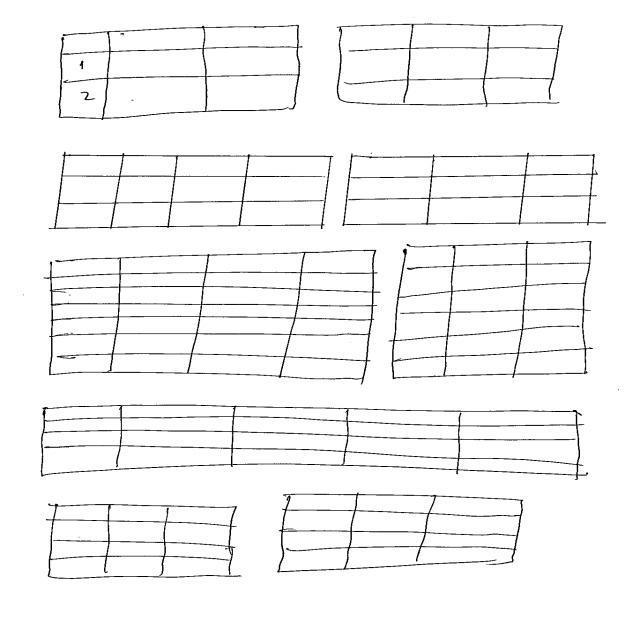table: (41, 248, 380, 381), (38, 404, 584, 474), (391, 241, 595, 383), (54, 23, 303, 122), (50, 150, 337, 235), (341, 153, 599, 235), (274, 493, 529, 575), (337, 22, 564, 108), (45, 503, 238, 582)
